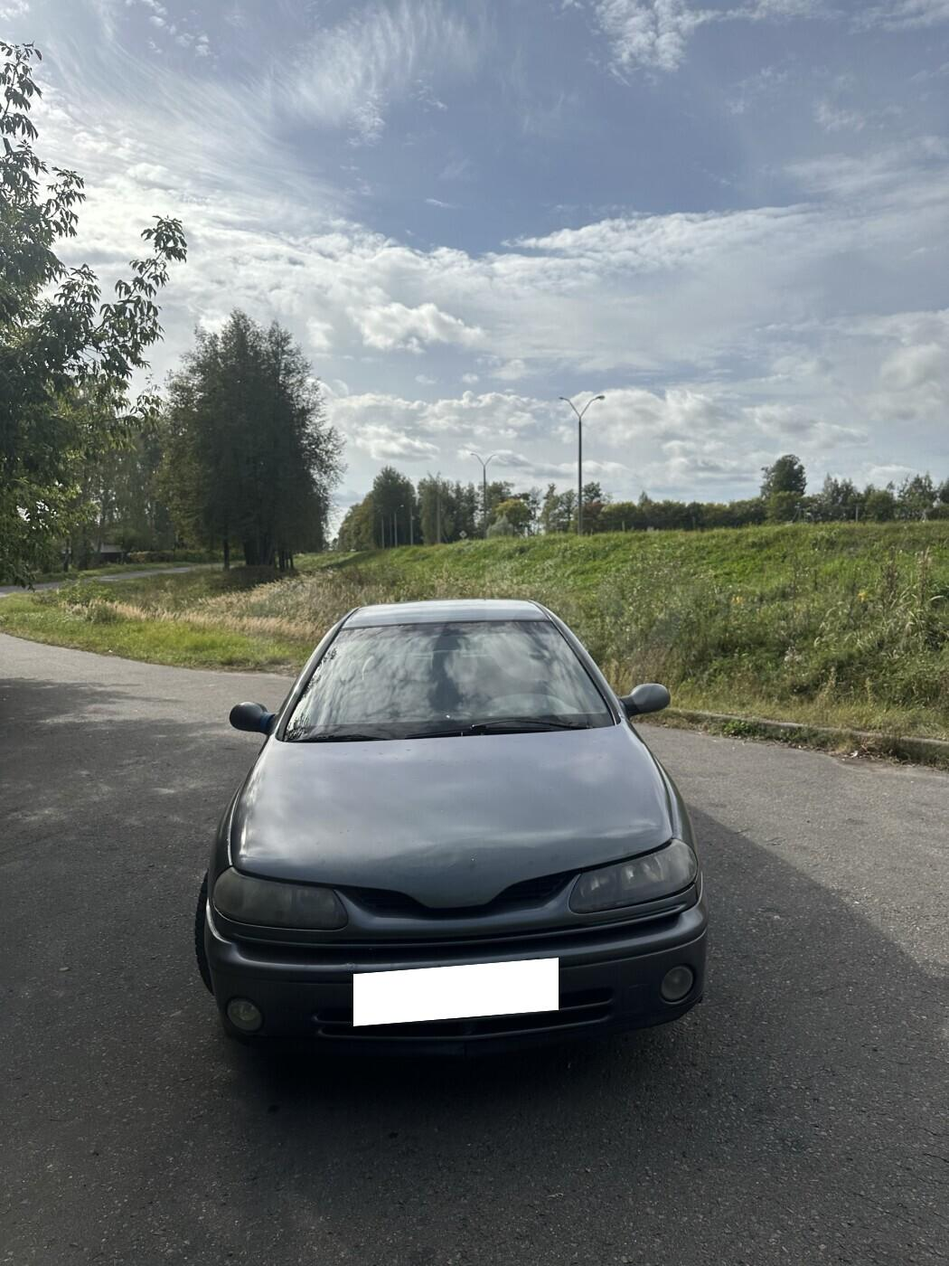Laguna_1998-2001: (204, 597, 710, 1067)
